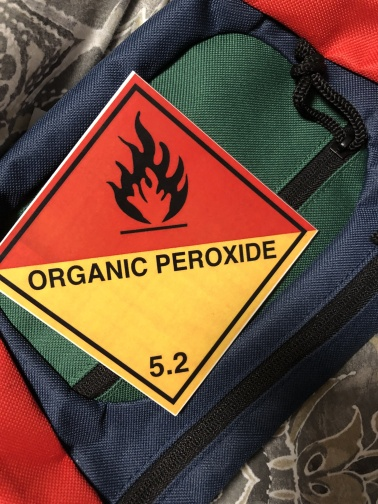OrganicPeroxide: (1, 76, 317, 414)
